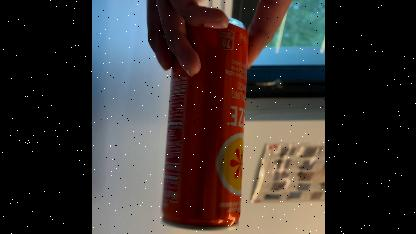Can: (149, 4, 248, 234)
